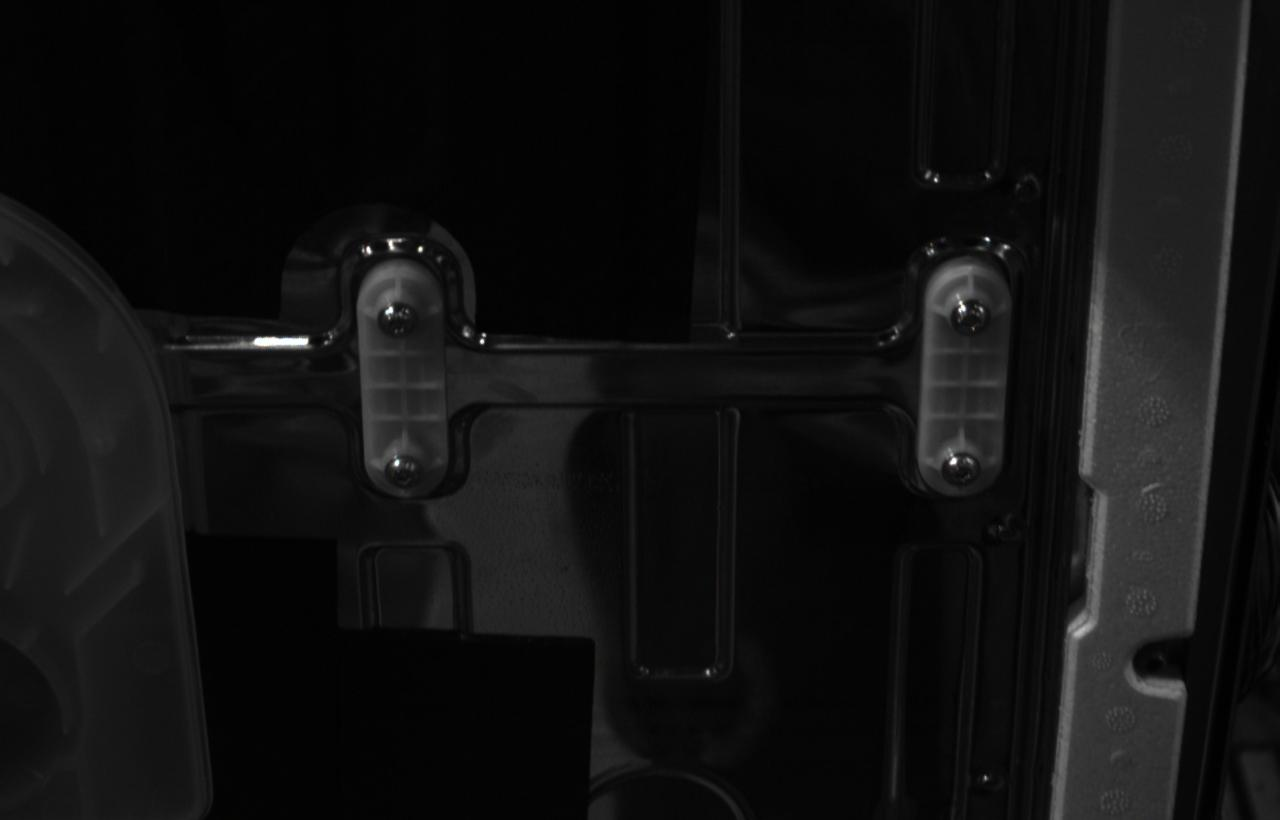vida-ok: (951, 299, 990, 337), (378, 302, 418, 339), (942, 453, 981, 488), (385, 455, 421, 489)
